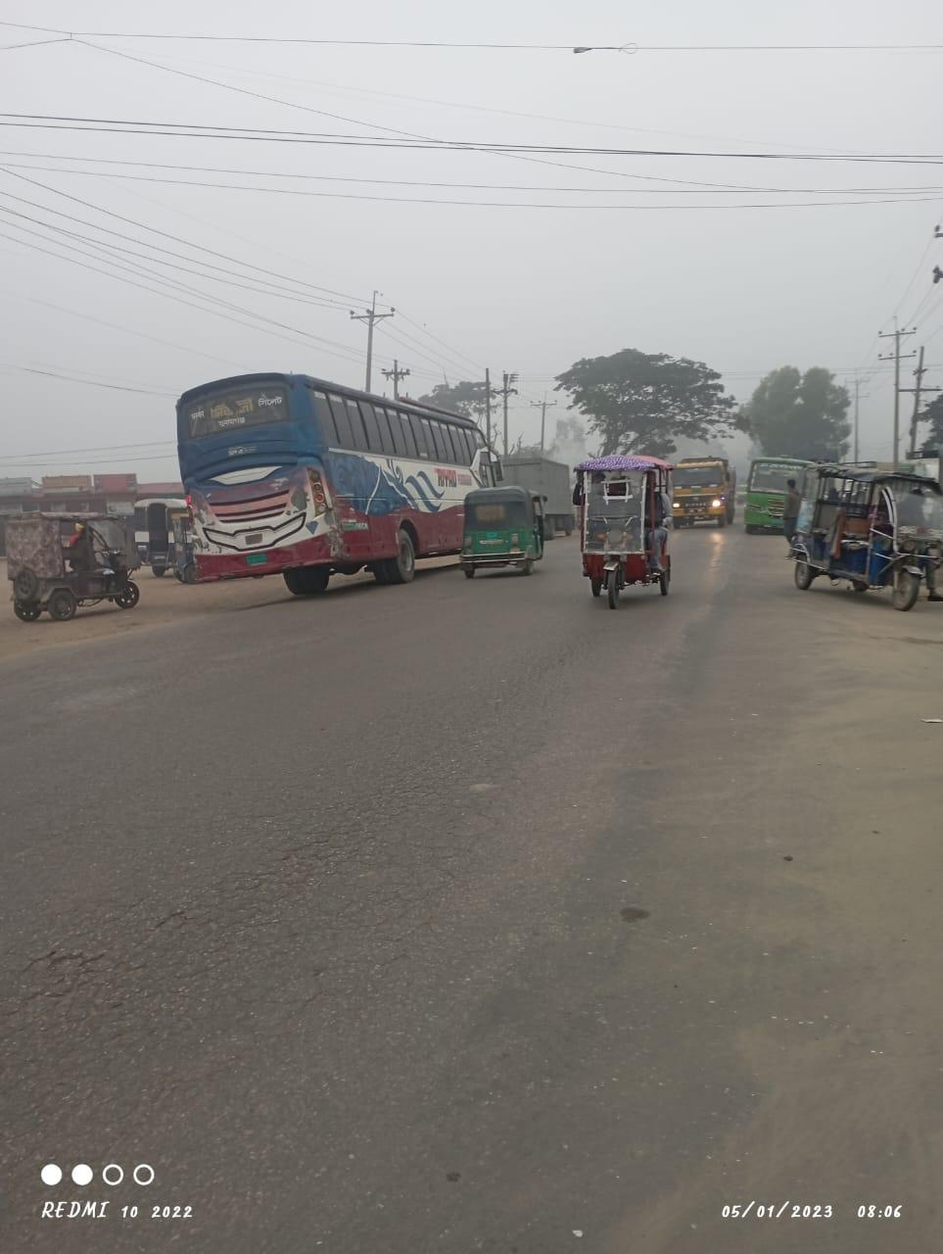Bus: (158, 375, 511, 572), (738, 448, 817, 542)
Car: (779, 466, 938, 619), (2, 501, 154, 623), (569, 444, 678, 608)
Truck: (670, 450, 736, 536)
